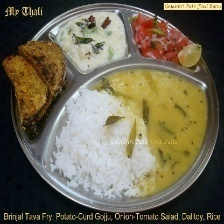rice: (47, 84, 159, 206)
